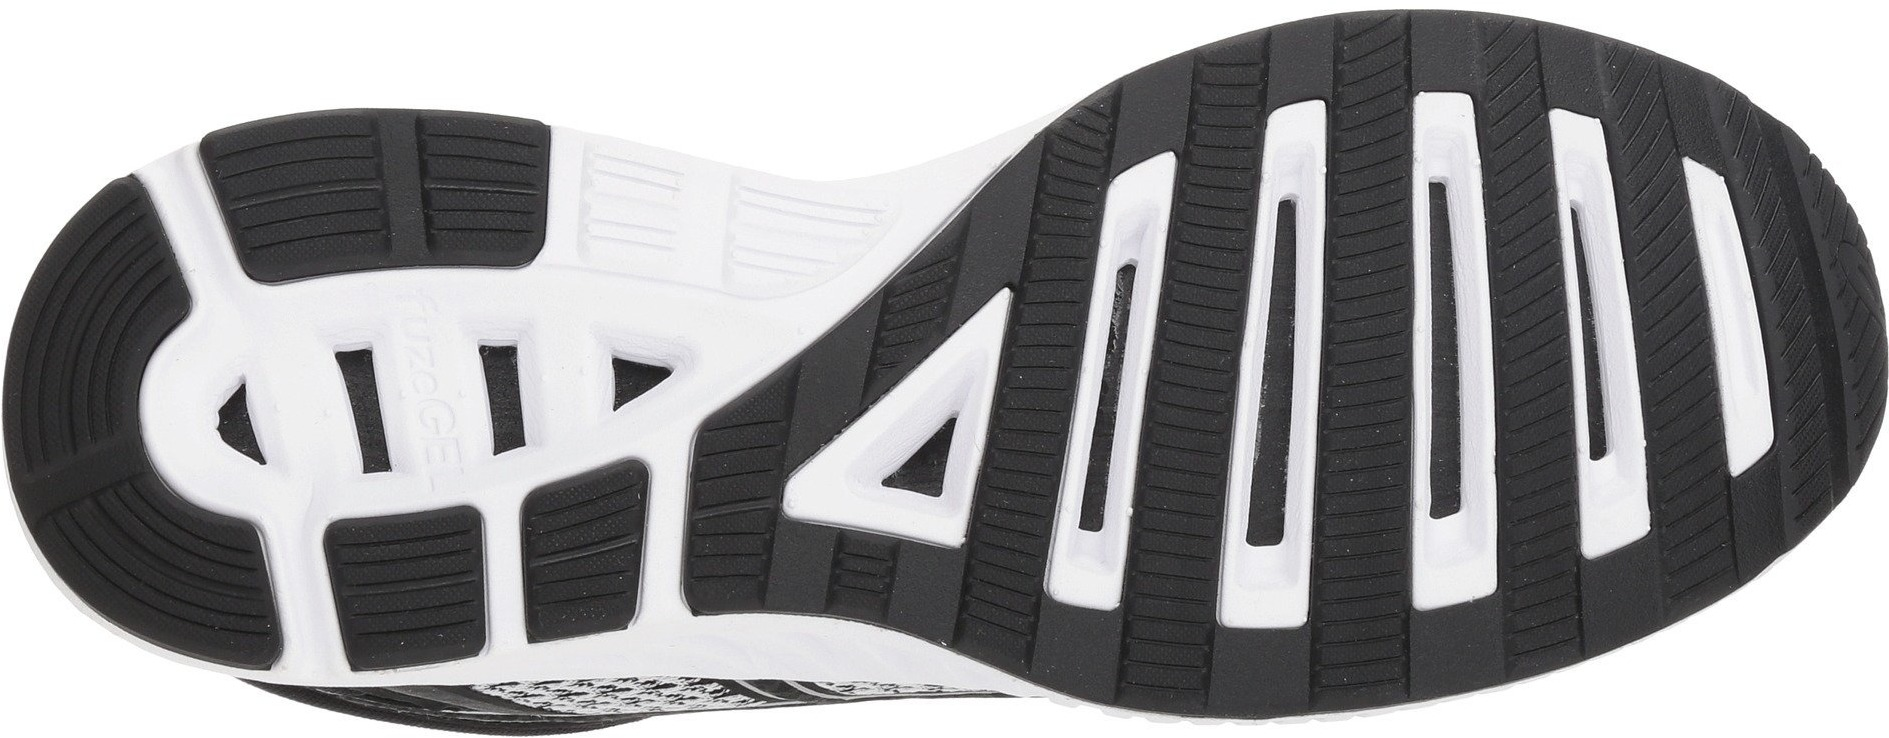circle: (386, 374, 479, 489)
line: (747, 268, 1022, 571), (1163, 116, 1516, 344), (1350, 429, 1605, 649), (399, 91, 595, 279), (1166, 73, 1349, 249)
quad: (747, 268, 1022, 571), (1163, 116, 1516, 344), (1350, 429, 1605, 649), (399, 91, 595, 279), (1166, 73, 1349, 249), (326, 515, 506, 672), (241, 124, 389, 293)
text: (386, 374, 479, 489), (367, 281, 466, 371)
triangle: (747, 268, 1022, 571), (561, 299, 719, 442)
